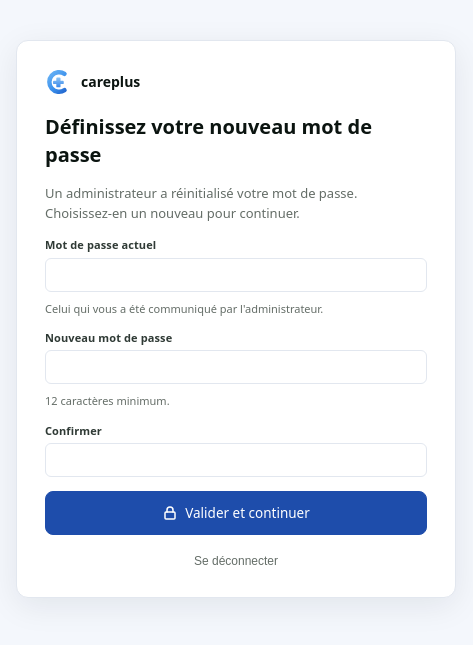
Test case: <ForceChangePasswordPage /> › 1. renders the three fields and rejects passwords < 12 chars
Expected: the heading "Définissez votre nouveau mot de passe" is shown, left=45, top=113, right=427, bottom=169
Expected: the password field labelled "Nouveau mot de passe" is shown, left=45, top=350, right=427, bottom=384
In the password field labelled "Mot de passe actuel": (236, 274) left=45, top=258, right=427, bottom=292, type "old-pwd"
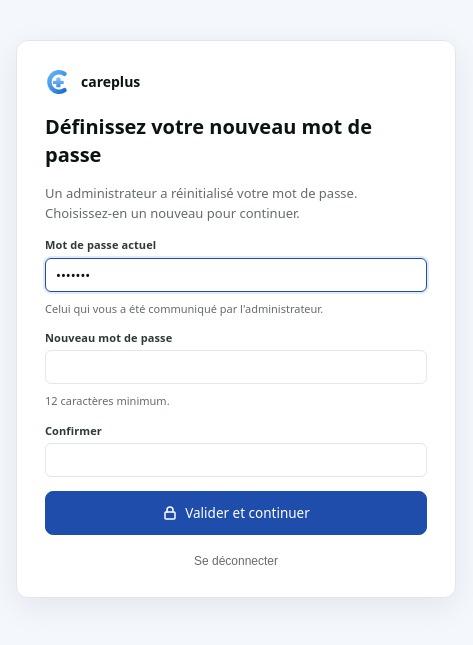
In the password field labelled "Nouveau mot de passe": (236, 367) left=45, top=350, right=427, bottom=384, type "short"
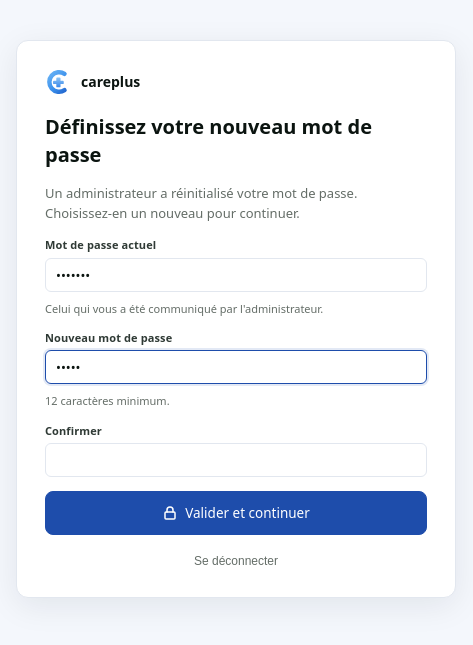
In the password field labelled "Confirmer": (236, 460) left=45, top=443, right=427, bottom=477, type "short"
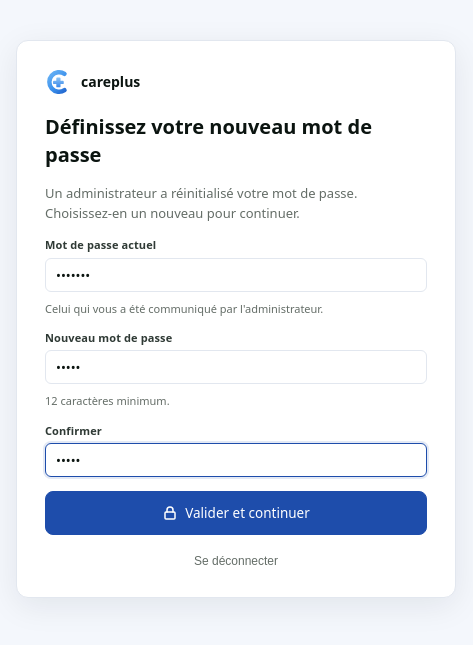
Click the button "Valider et continuer": (236, 513) left=45, top=491, right=427, bottom=535
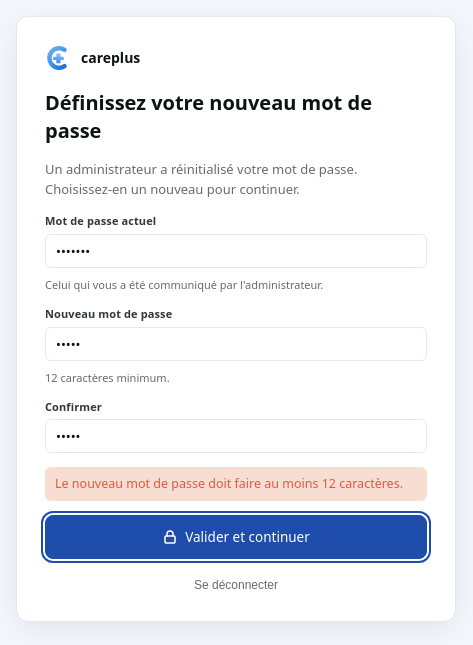
Expected: the text "Le nouveau mot de passe doit faire au moins 12 caractères." is shown, left=45, top=467, right=427, bottom=501
